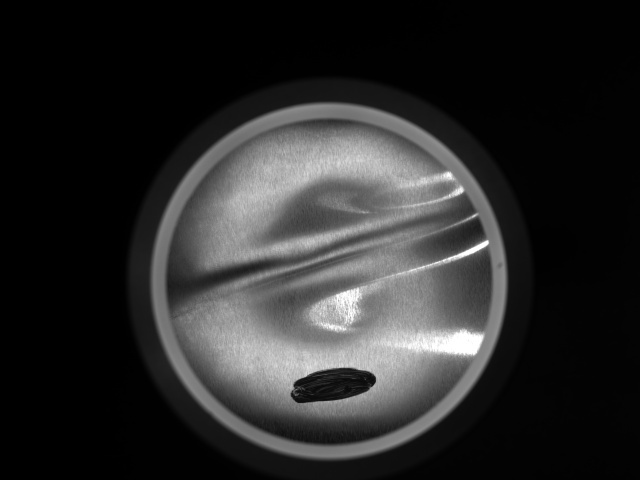zang_wu: (288, 365, 379, 403)
zhe_zhou: (207, 149, 449, 411)
